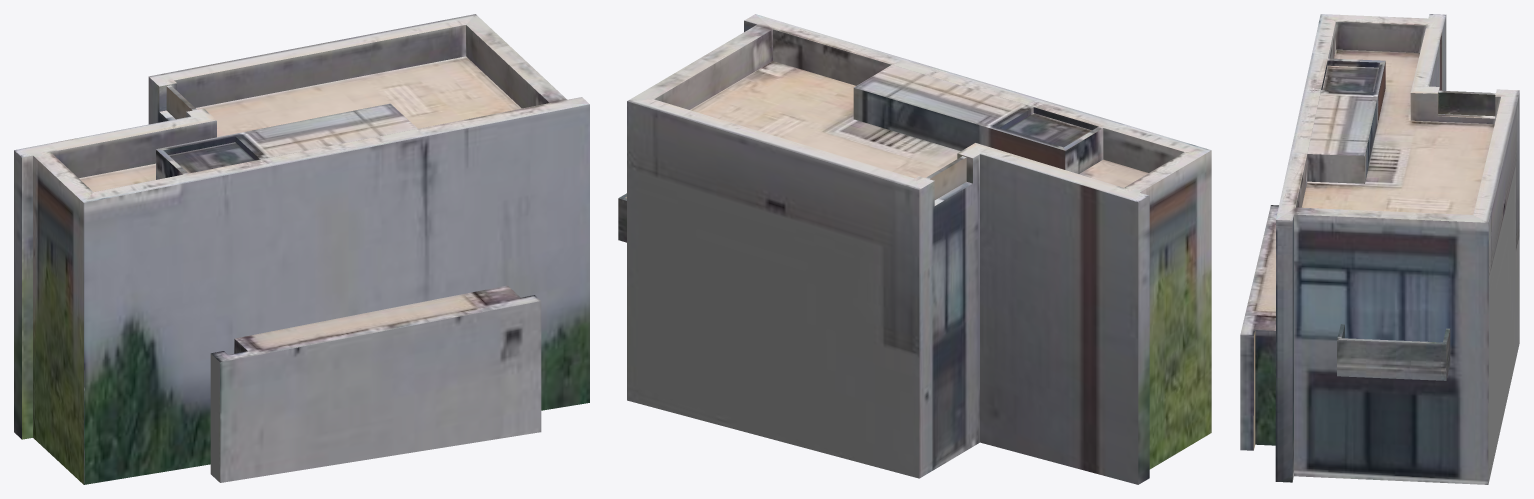
3 views of the same model, side by side, from view 1: azimuth 30°, elevation 25°; view 2: azimuth 150°, elevation 25°; view 3: azimuth 270°, elevation 25° (orthographic). The views are drawn at different scales.
Parts seen in each view (by area): view 1: B286334031501062A0; view 2: B286334031501062A0; view 3: B286334031501062A0.
Part boxes in pixels (x1=…): B286334031501062A0: x1=14, y1=14, x2=589, y2=484; B286334031501062A0: x1=618, y1=14, x2=1211, y2=484; B286334031501062A0: x1=1240, y1=14, x2=1519, y2=484.
Size of the model in its own units: 16.49 by 9.04 by 8.74.
1 material, 1 textured.
